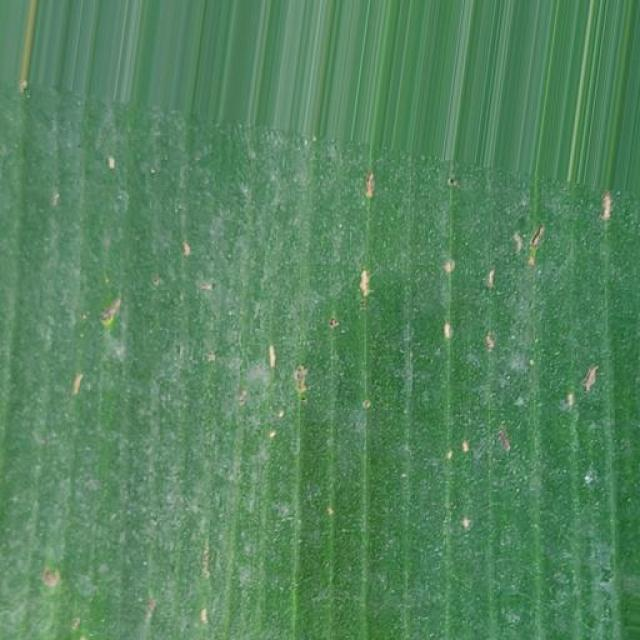Black_rot: (84, 127, 640, 592)
